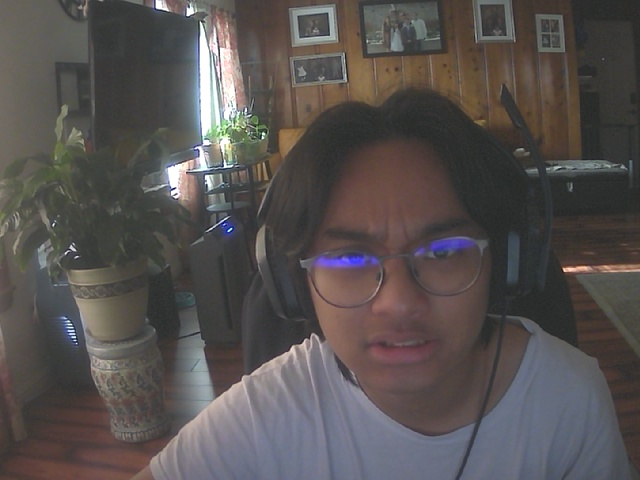anger: (298, 122, 497, 396)
